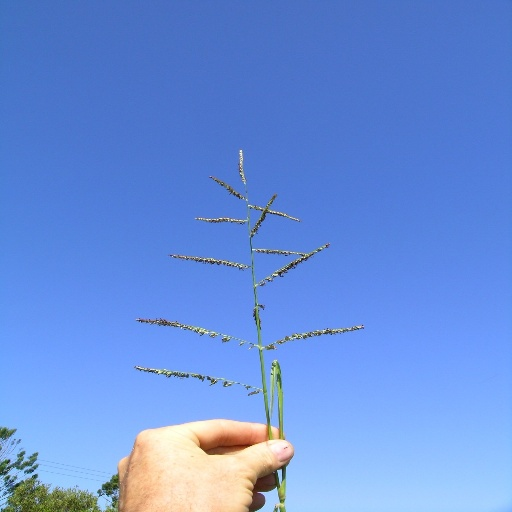hand: (128, 405, 288, 497)
